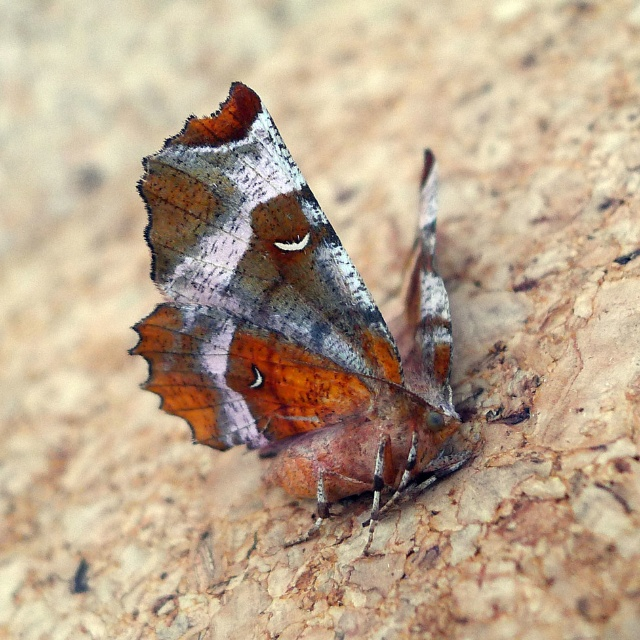Moths and butterflies: (124, 82, 482, 563)
